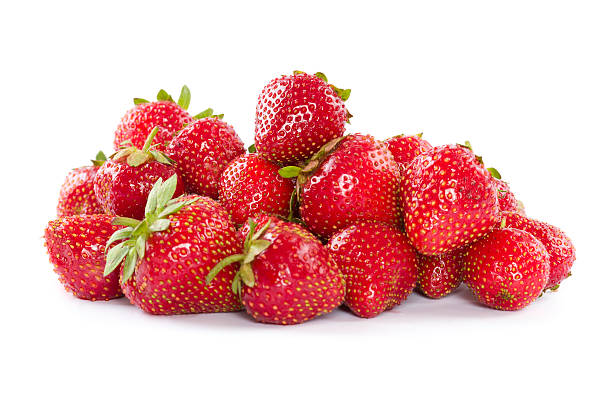Fresa: (115, 190, 254, 316), (400, 141, 505, 260), (239, 219, 349, 329), (297, 133, 407, 240), (40, 208, 147, 305), (326, 217, 421, 319), (252, 70, 353, 165), (463, 221, 552, 313), (92, 140, 186, 226), (165, 112, 252, 202), (214, 148, 307, 231), (111, 96, 199, 165)
